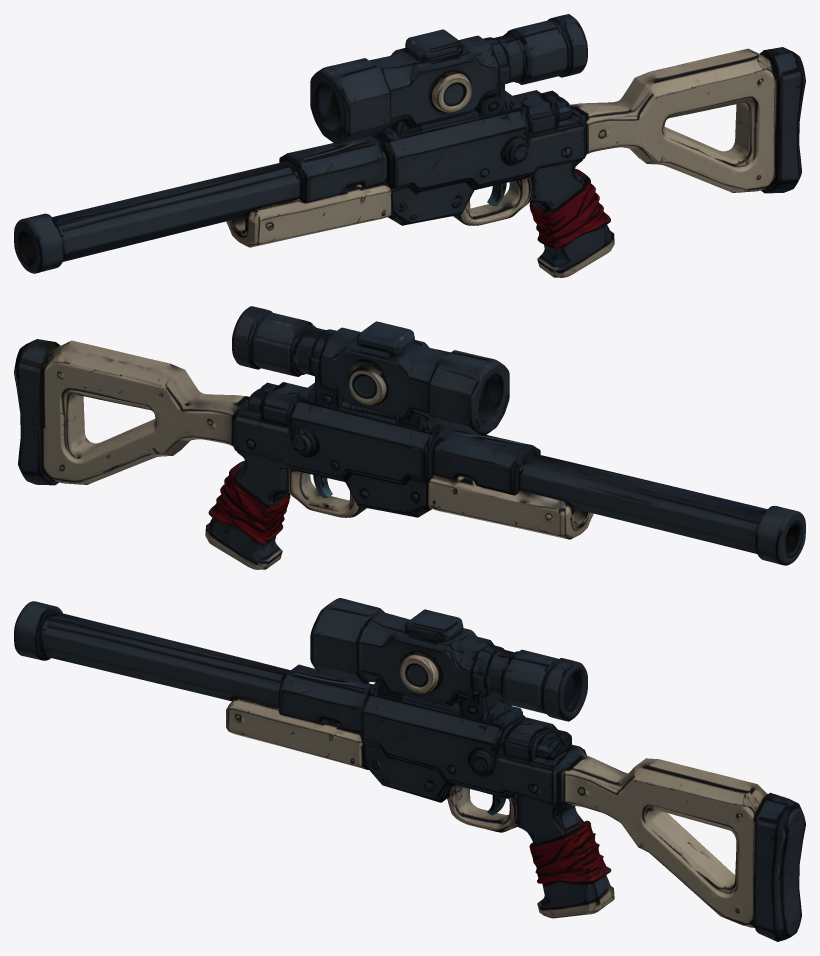
The model's file is WPN-04-SNIPER.glb.
3 views of the same model, one above another, from view 1: azimuth 30°, elevation 25°; view 2: azimuth 150°, elevation 25°; view 3: azimuth 330°, elevation 25° (orthographic).
Parts seen in each view (by area): view 1: node_0; view 2: node_0; view 3: node_0.
Boxes of the visible parts, x1,y1,x2,y2 form: node_0: [14, 14, 805, 277]; node_0: [14, 306, 805, 569]; node_0: [14, 598, 805, 941].
Bounding box in the file's own units: 1.18 × 0.384 × 0.1104.
Materials: 1 (1 with a texture image).
